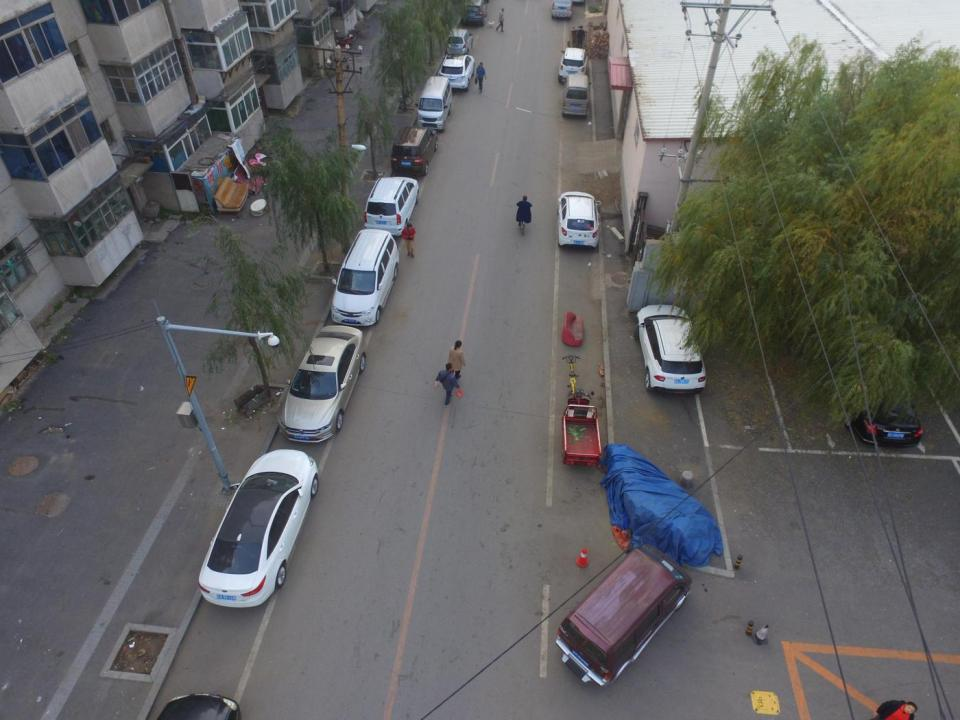car: (198, 448, 320, 608), (835, 323, 925, 448), (277, 324, 367, 444), (634, 304, 708, 395), (557, 191, 601, 251), (438, 53, 475, 91), (558, 47, 590, 82), (444, 28, 474, 58)
van: (555, 542, 694, 686), (331, 229, 400, 326), (363, 176, 420, 238), (390, 125, 439, 177), (415, 75, 453, 133), (561, 73, 590, 119), (460, 0, 489, 25)
